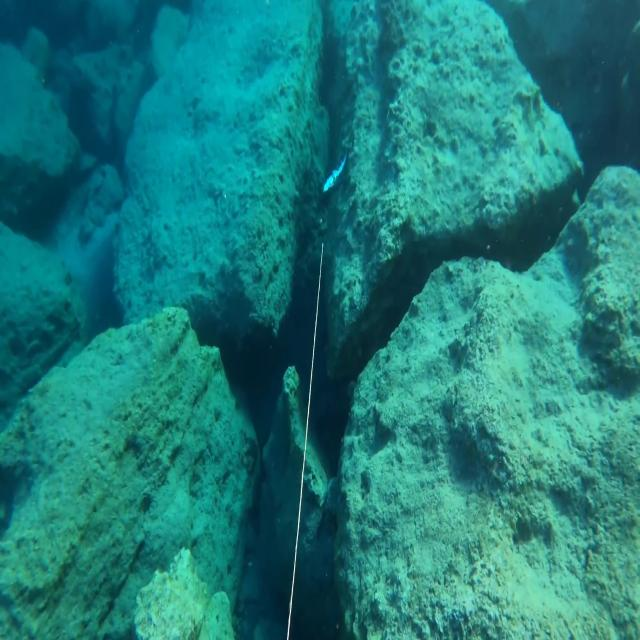Balon Baligi: (322, 146, 348, 194), (337, 177, 337, 177)
